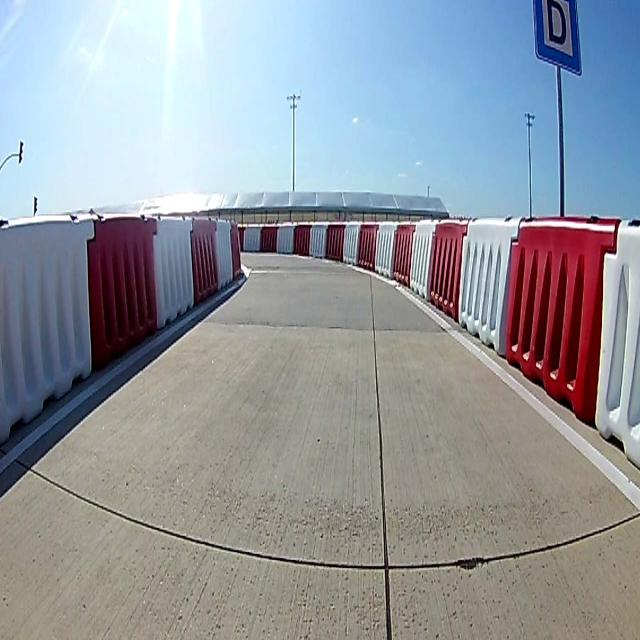durak: (532, 1, 583, 71)
